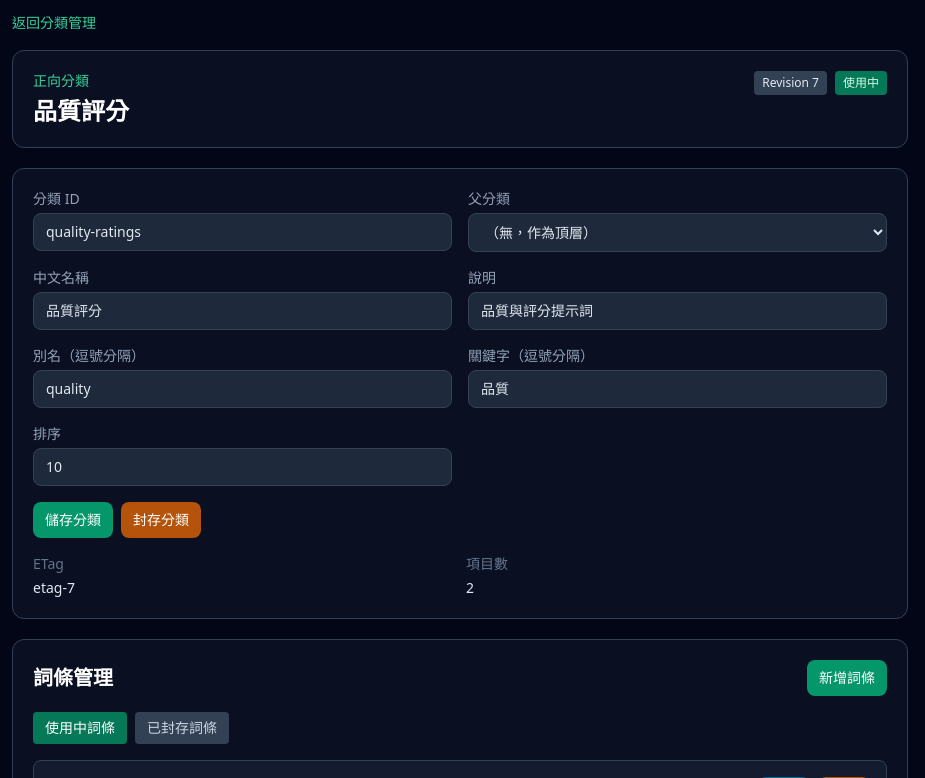
Scenario: PromptCategoryDetail › rejects a blank category order without writing
The width and height of the screenshot is (925, 778).
Clear the number field named "分類排序" at (242, 467), box top-left (33, 448), bottom-right (452, 486)
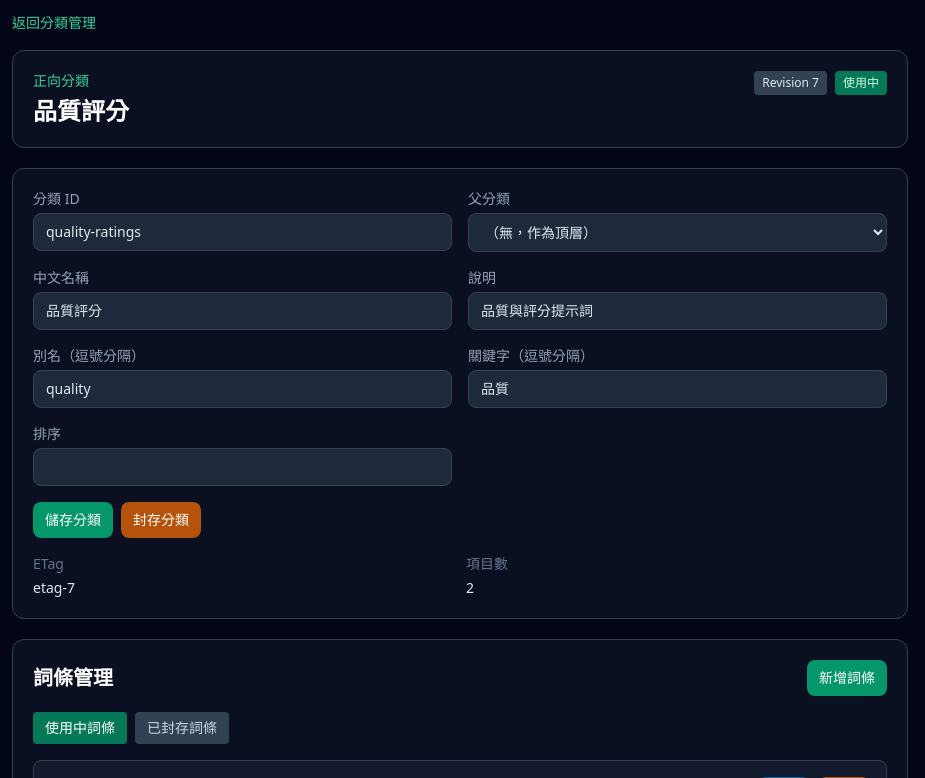
Click the button "儲存分類" at (73, 520), box top-left (33, 502), bottom-right (113, 538)
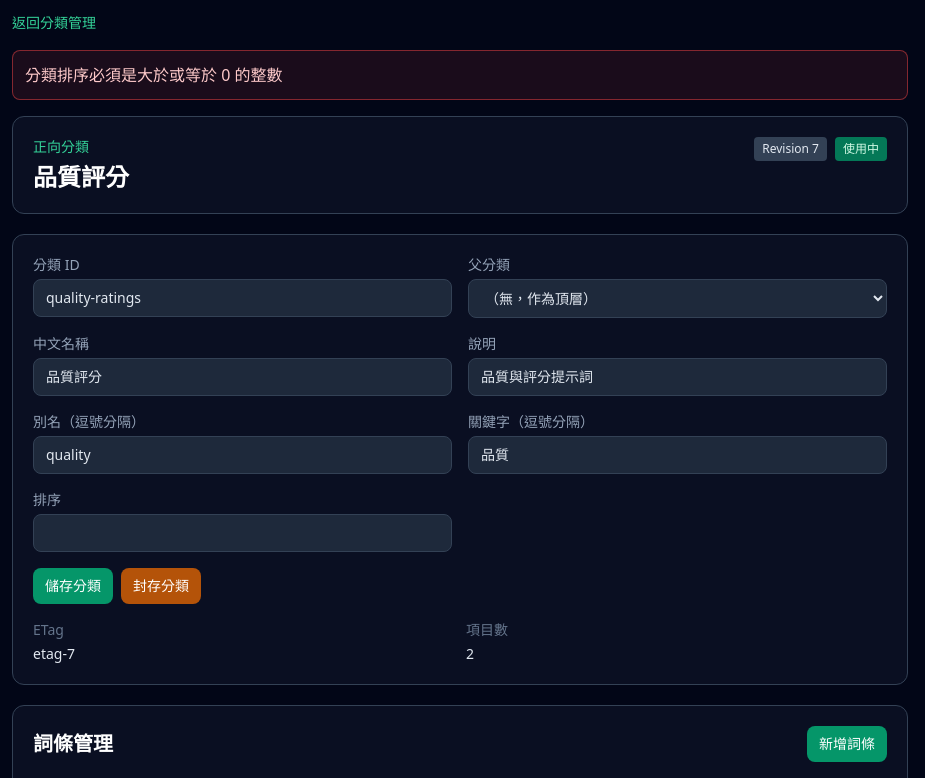
Expected: the message reads "分類排序必須是大於或等於 0 的整數", top-left (25, 64), bottom-right (282, 86)
